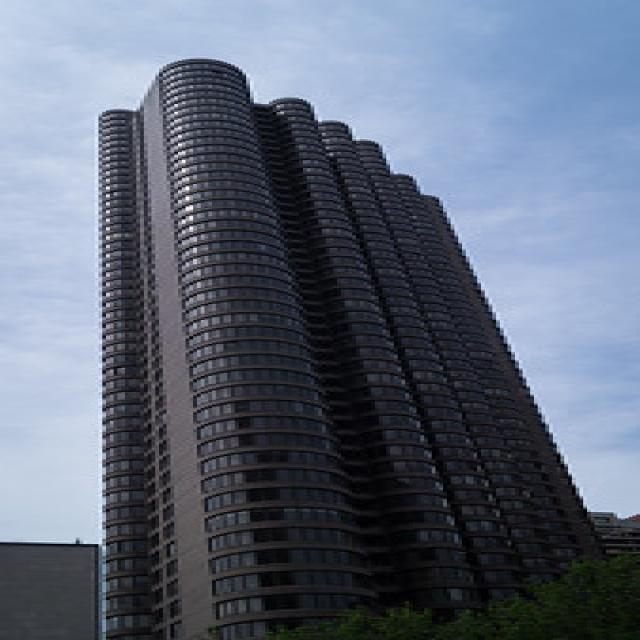Normal_building: (83, 54, 640, 640)
